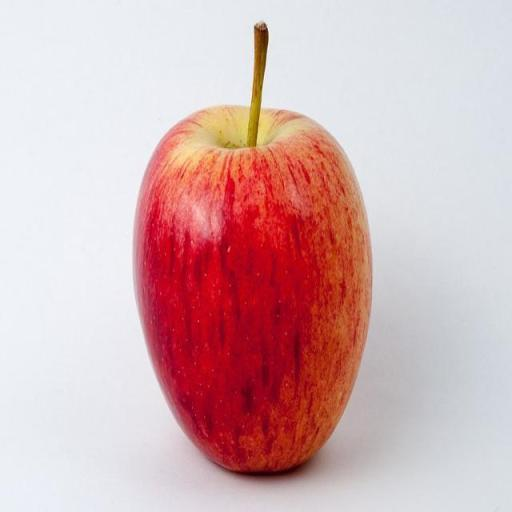fruit: (134, 105, 370, 470), (256, 53, 262, 80), (256, 26, 262, 32), (256, 83, 259, 93), (256, 41, 259, 48), (256, 32, 259, 35)
